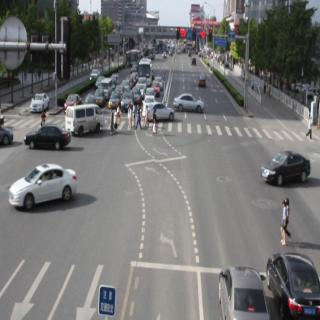Car: (263, 243, 320, 320), (4, 168, 90, 214), (210, 258, 268, 320), (257, 148, 313, 189), (25, 115, 71, 154), (67, 102, 104, 140), (170, 91, 205, 122), (144, 102, 174, 124), (31, 88, 51, 114), (138, 58, 155, 88), (108, 85, 122, 112), (121, 92, 135, 116), (63, 92, 80, 110), (101, 76, 115, 96), (89, 64, 102, 84), (130, 86, 144, 104), (198, 71, 210, 91), (154, 72, 164, 92), (86, 92, 98, 108)
